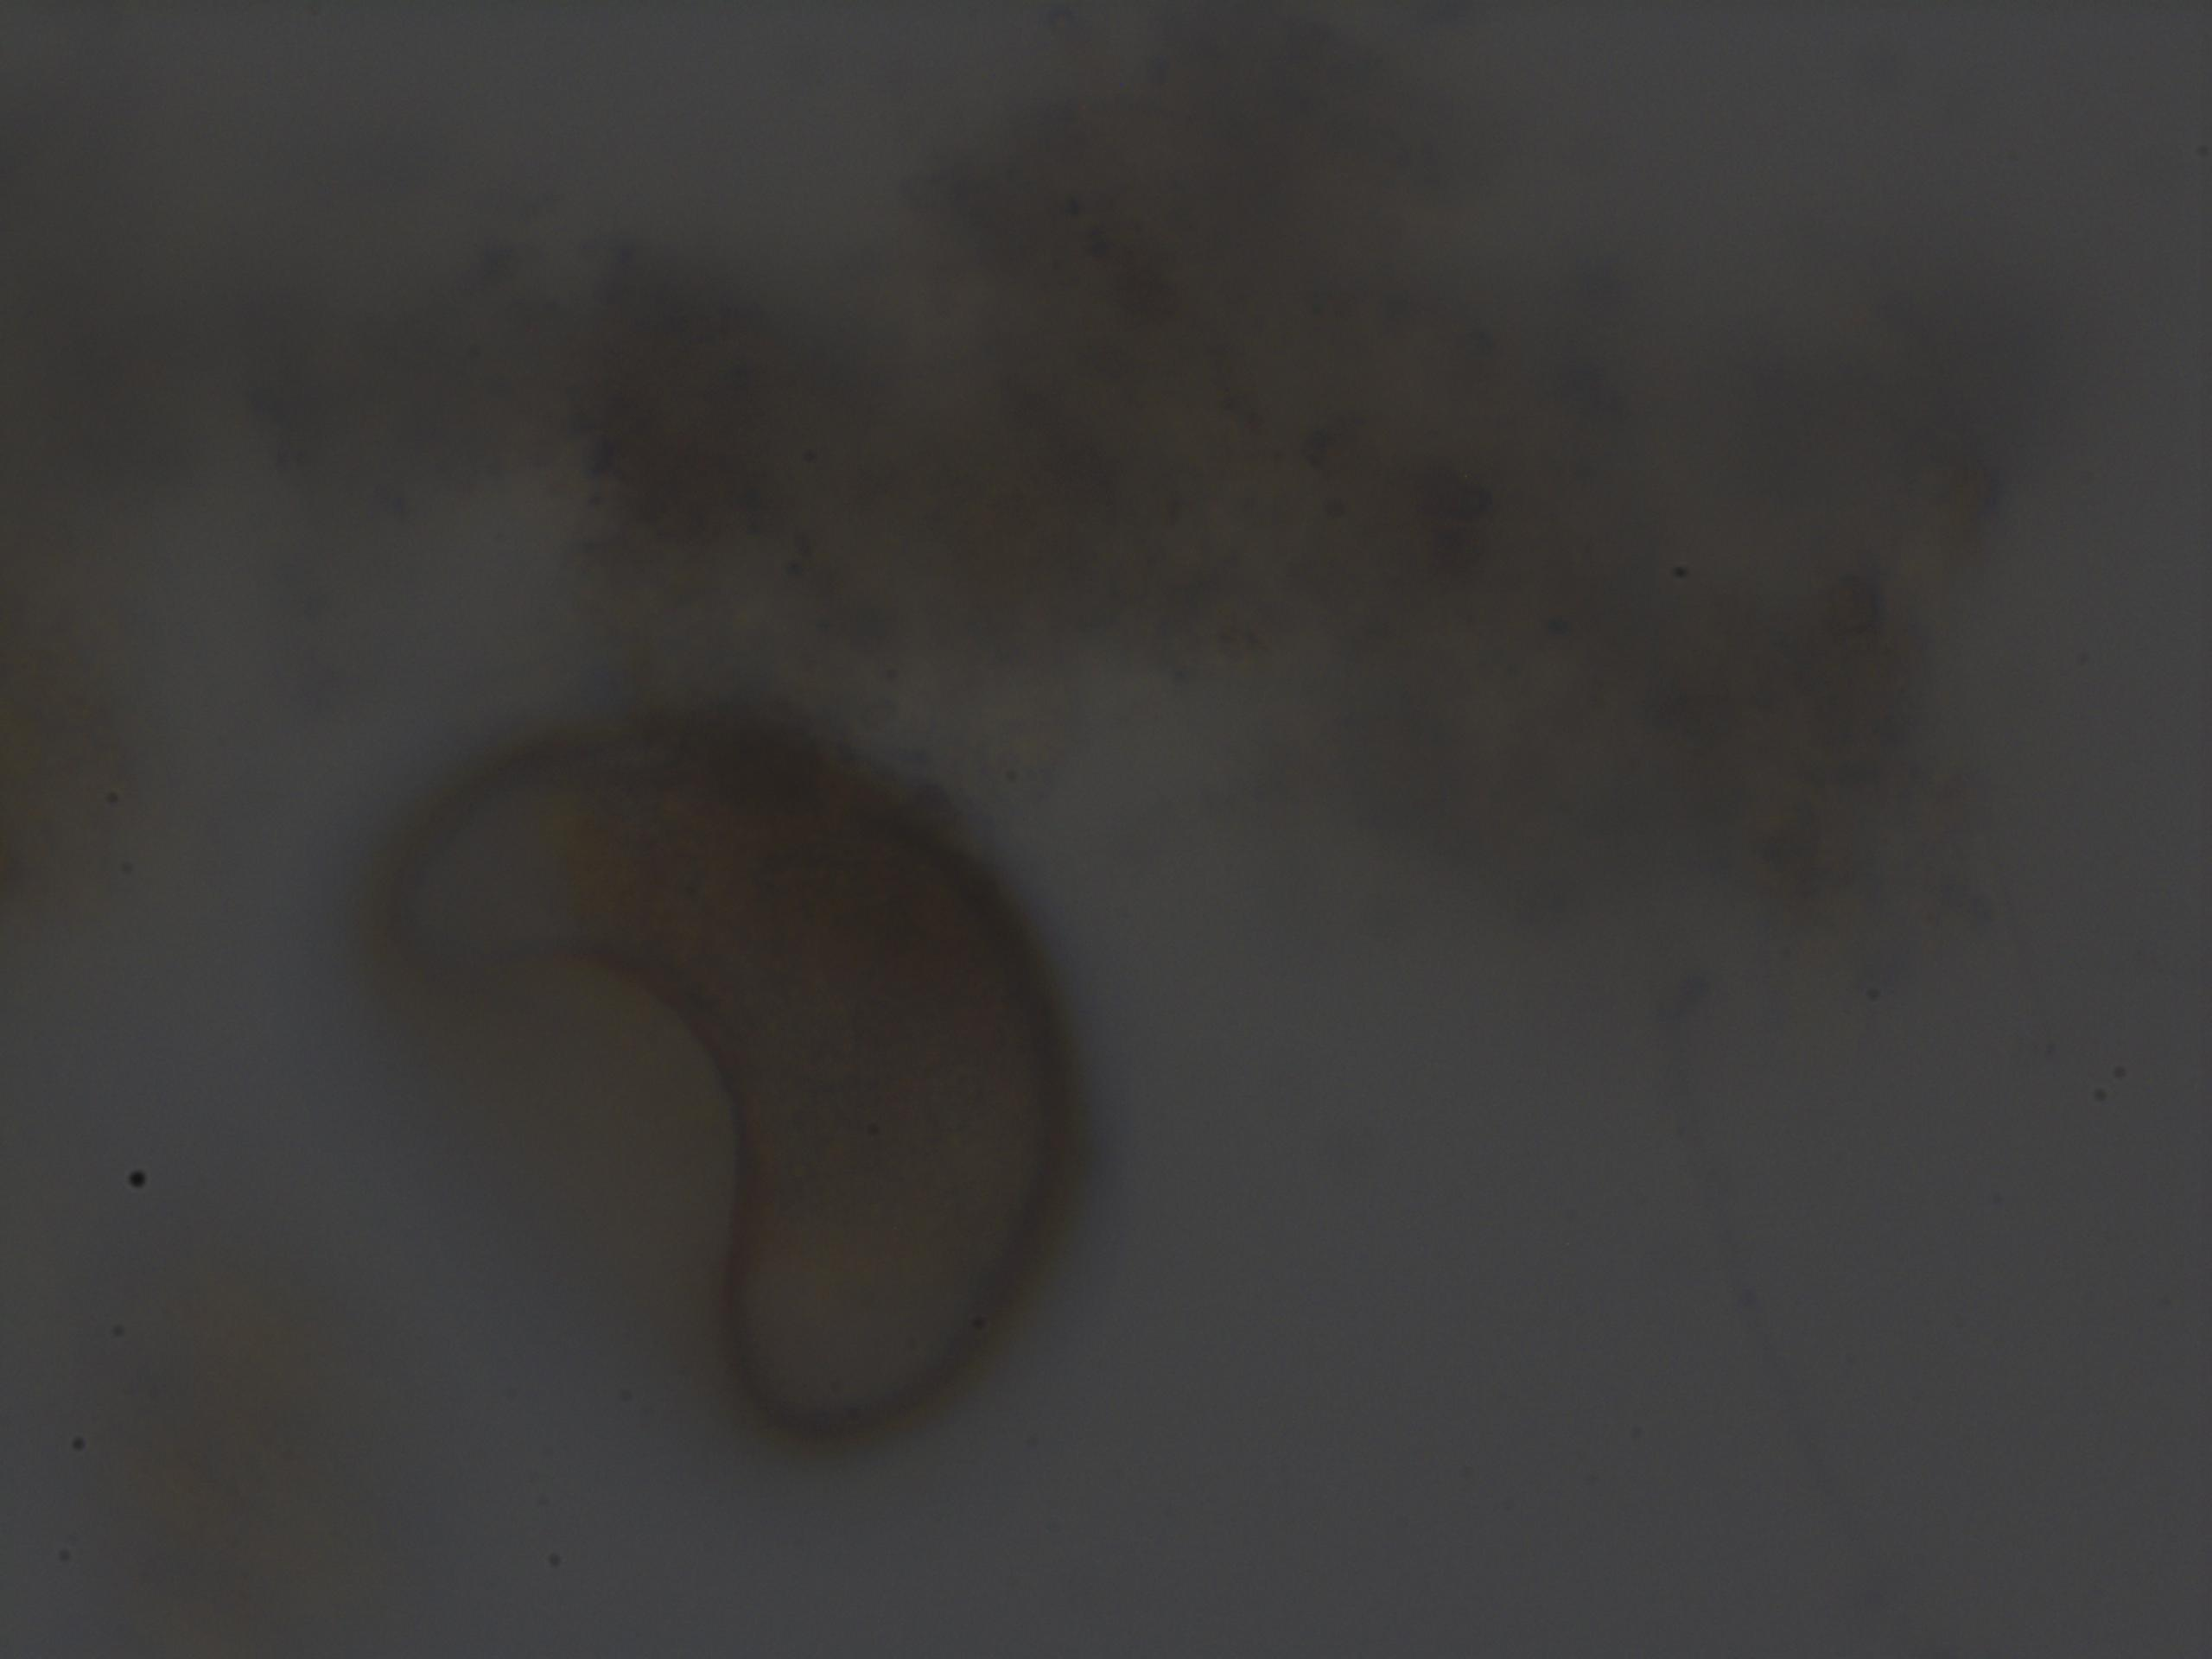protozoa: (373, 678, 1101, 1457)
